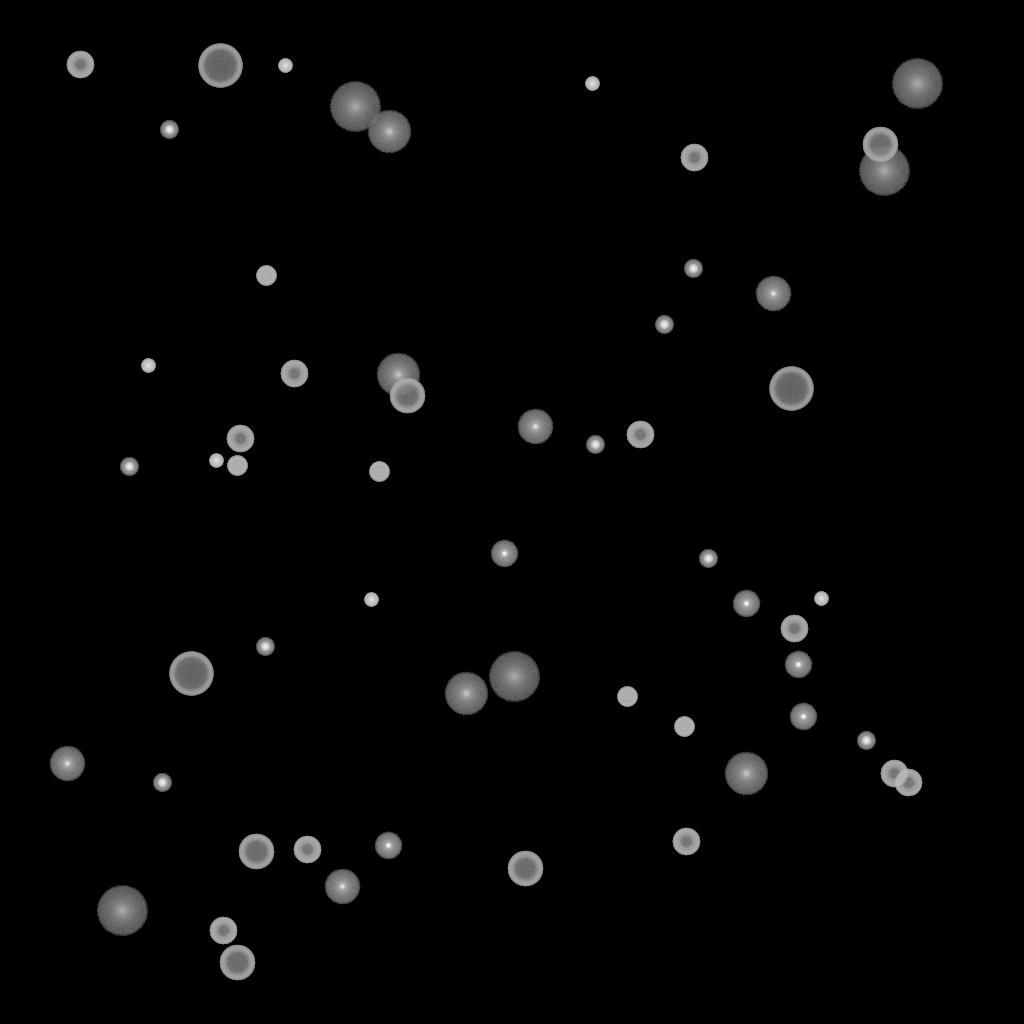depth:-10: (732, 590, 760, 618), (374, 832, 402, 860), (789, 703, 817, 731), (490, 540, 518, 568), (784, 651, 812, 679)
depth:-20: (684, 260, 702, 278), (857, 732, 875, 750), (699, 550, 717, 568), (256, 638, 274, 656), (120, 458, 138, 476), (153, 774, 171, 792), (655, 316, 673, 334), (160, 121, 178, 139), (586, 436, 604, 454)
depth:-30: (814, 592, 828, 606), (209, 454, 223, 468), (364, 593, 378, 607), (585, 77, 599, 91), (141, 359, 155, 373), (278, 59, 292, 73)
depth:-40: (256, 266, 276, 286), (617, 687, 637, 707), (369, 462, 389, 482), (227, 456, 247, 476), (674, 717, 694, 737)
depth:-50: (894, 769, 922, 797), (880, 760, 908, 788), (280, 360, 308, 388), (680, 144, 708, 172), (293, 836, 321, 864), (66, 51, 94, 79), (672, 828, 700, 856), (209, 917, 237, 945), (226, 425, 254, 453), (626, 421, 654, 449), (780, 615, 808, 643)
depth:-60: (862, 127, 898, 163), (238, 834, 274, 870), (507, 851, 543, 887), (389, 378, 425, 414), (219, 945, 255, 981)
depth:-70: (769, 367, 813, 411), (198, 44, 242, 88), (169, 652, 213, 696)
depth:0: (517, 409, 553, 445), (324, 869, 360, 905), (49, 746, 85, 782), (755, 276, 791, 312)
depth:10: (724, 752, 768, 796), (444, 672, 488, 716), (367, 110, 411, 154), (376, 353, 420, 397)
depth:20: (488, 652, 540, 702), (96, 886, 148, 936), (329, 82, 381, 132), (891, 59, 943, 109), (858, 146, 910, 196)
